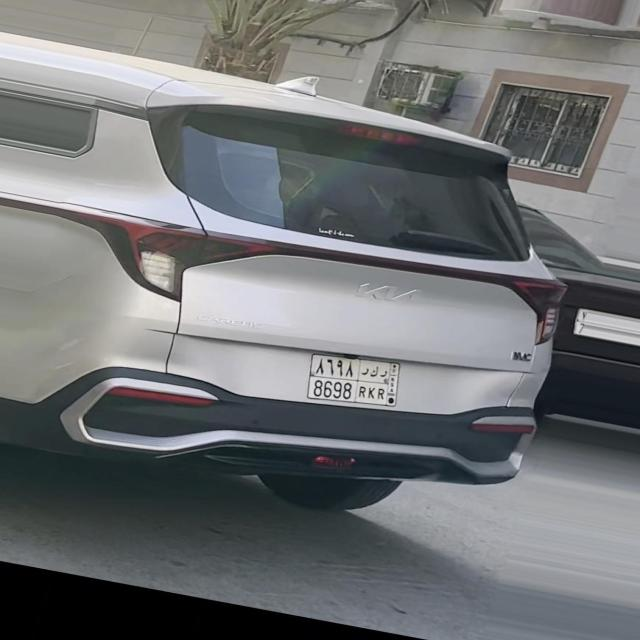Car-plate: (297, 343, 421, 418)
